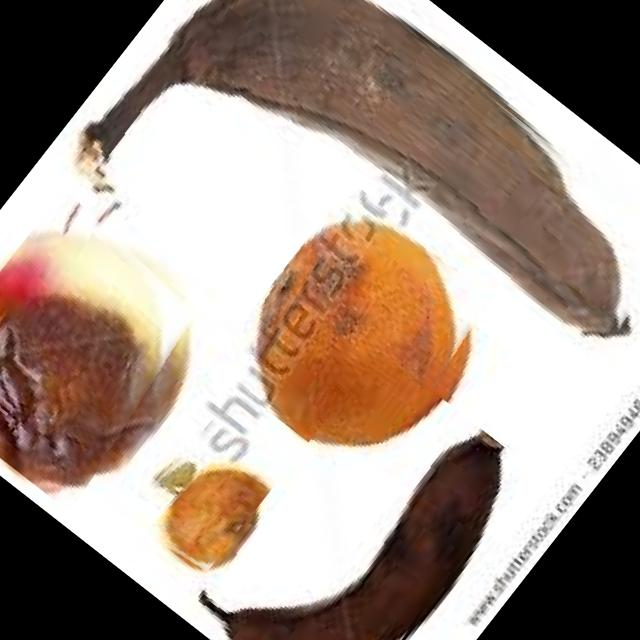Organic: (69, 0, 640, 483), (185, 349, 536, 640), (210, 180, 516, 491), (0, 186, 229, 513), (122, 407, 305, 593)
